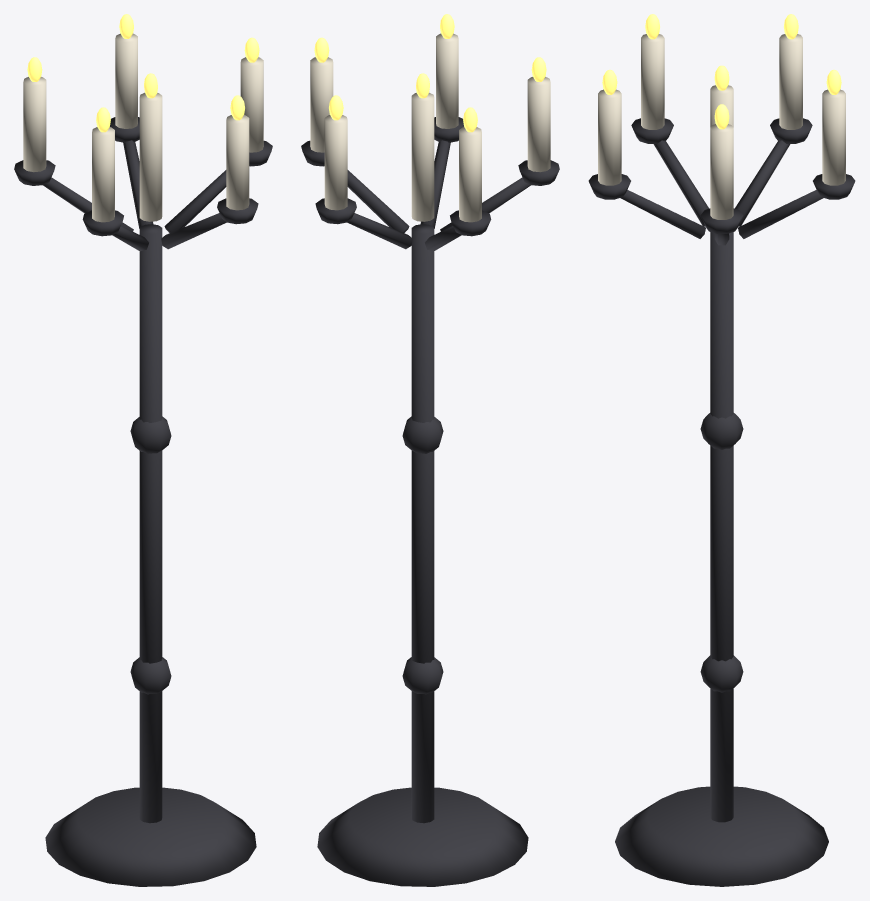
Rendered from candelabra_five_arm.glb.
The picture shows the model from 3 angles, left to right: view 1: azimuth 30°, elevation 25°; view 2: azimuth 150°, elevation 25°; view 3: azimuth 270°, elevation 25°; orthographic projection.
Parts seen in each view (by area): view 1: GD_candelabra_five_arm__m0, GD_candelabra_five_arm__m1, GD_candelabra_five_arm__m2; view 2: GD_candelabra_five_arm__m0, GD_candelabra_five_arm__m1, GD_candelabra_five_arm__m2; view 3: GD_candelabra_five_arm__m0, GD_candelabra_five_arm__m1, GD_candelabra_five_arm__m2.
Boxes of the visible parts, x1=… form: GD_candelabra_five_arm__m0: x1=14, y1=117, x2=272, y2=886; GD_candelabra_five_arm__m1: x1=23, y1=33, x2=263, y2=222; GD_candelabra_five_arm__m2: x1=27, y1=14, x2=259, y2=132; GD_candelabra_five_arm__m0: x1=301, y1=117, x2=559, y2=886; GD_candelabra_five_arm__m1: x1=310, y1=33, x2=550, y2=222; GD_candelabra_five_arm__m2: x1=314, y1=14, x2=546, y2=132; GD_candelabra_five_arm__m0: x1=588, y1=118, x2=855, y2=886; GD_candelabra_five_arm__m1: x1=598, y1=34, x2=845, y2=219; GD_candelabra_five_arm__m2: x1=602, y1=14, x2=841, y2=129.
Size of the model in its own units: 0.4741 by 1.62 by 0.4985.
